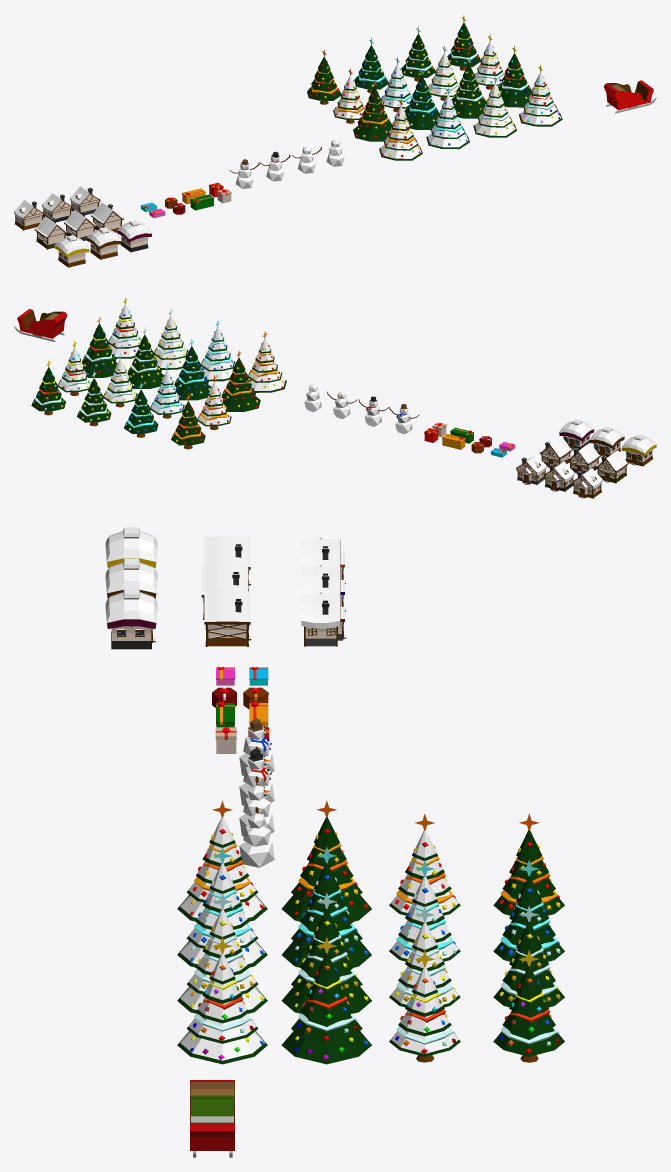
Rendered from Low Poly Christmas.fbx.
The picture shows the model from 3 angles, top to bottom: view 1: azimuth 30°, elevation 25°; view 2: azimuth 150°, elevation 25°; view 3: azimuth 270°, elevation 25°; orthographic projection. The views are drawn at different scales.
Parts seen in each view (by area): view 1: Tree 16, Tree 13, Tree 15, Tree 14, Tree 12, Tree 11, Tree 10, Sleigh, Tree 9, Tree 4, Tree 3, Tree 2 (+17 smaller); view 2: Tree 12, Tree 16, Tree 11, Tree 10, Tree 9, Tree 15, Tree 14, Sleigh, Tree 13, Tree 6, Tree 1, Tree 4 (+18 smaller); view 3: Tree 13, Tree 9, Tree 1, Tree 5, Tree 12, Tree 16, Tree 15, Tree 11, Tree 14, Tree 10, Sleigh, House 1 Snowy (+18 smaller).
Part boxes in pixels (<box>): Tree 16: <box>379,99,422,160</box>; Tree 13: <box>519,64,562,126</box>; Tree 15: <box>426,87,469,149</box>; Tree 14: <box>473,76,516,137</box>; Tree 12: <box>353,79,391,141</box>; Tree 11: <box>405,68,438,129</box>; Tree 10: <box>452,57,485,118</box>; Sleigh: <box>604,80,656,113</box>; Tree 9: <box>498,45,531,107</box>; Tree 4: <box>307,49,340,104</box>; Tree 3: <box>354,37,388,93</box>; Tree 2: <box>401,26,434,81</box>; Tree 12: <box>221,350,260,411</box>; Tree 16: <box>248,331,286,392</box>; Tree 11: <box>174,338,210,400</box>; Tree 10: <box>127,326,163,388</box>; Tree 9: <box>82,316,117,377</box>; Tree 15: <box>201,319,234,381</box>; Tree 14: <box>154,308,187,369</box>; Sleigh: <box>14,308,67,341</box>; Tree 13: <box>108,297,141,358</box>; Tree 6: <box>103,351,137,407</box>; Tree 1: <box>31,359,65,415</box>; Tree 4: <box>171,393,205,449</box>; Tree 13: <box>177,937,267,1064</box>; Tree 9: <box>281,936,371,1064</box>; Tree 1: <box>493,950,564,1062</box>; Tree 5: <box>389,950,460,1062</box>; Tree 12: <box>282,800,371,921</box>; Tree 16: <box>177,800,267,921</box>; Tree 15: <box>177,846,267,967</box>; Tree 11: <box>282,846,371,967</box>; Tree 14: <box>177,892,267,1013</box>; Tree 10: <box>281,892,371,1013</box>; Sleigh: <box>190,1080,234,1157</box>; House 1 Snowy: <box>105,588,157,649</box>.
Size of the model in its own units: 62.95 by 6.07 by 20.45.
